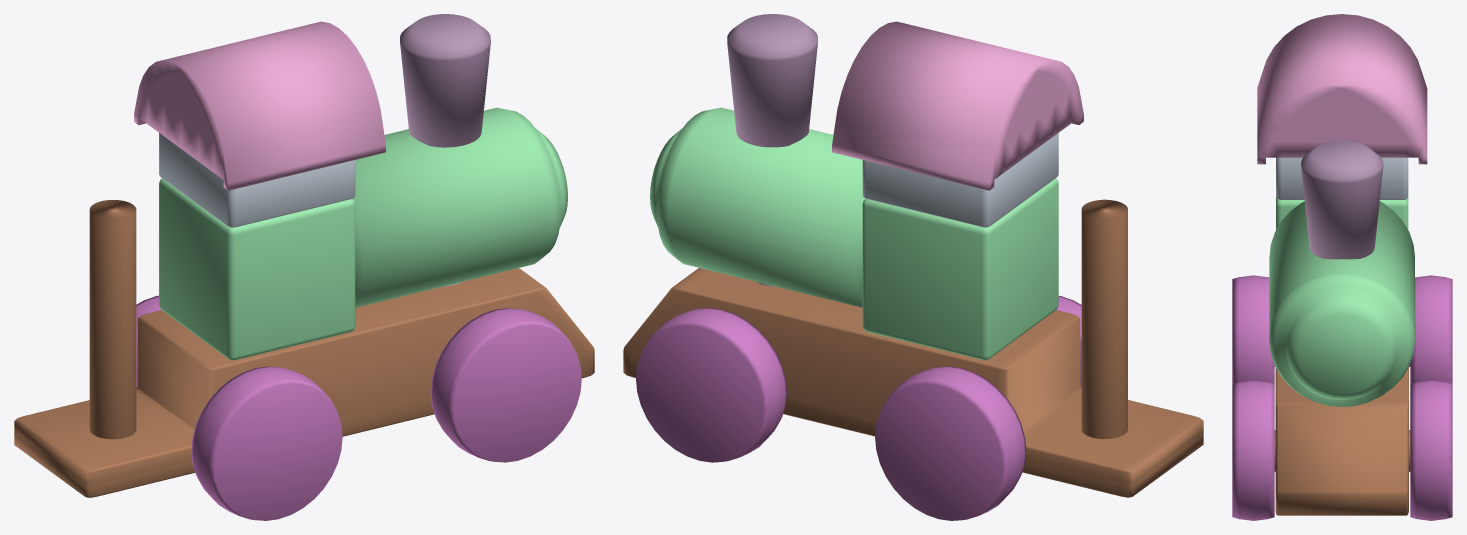
File: ToyTrain.fbx
3 renders of one model, left to right at view 1: azimuth 30°, elevation 25°; view 2: azimuth 150°, elevation 25°; view 3: azimuth 270°, elevation 25°, orthographic. The views are drawn at different scales.
Visible parts, largest first — view 1: Cube, Cylinder.004, Cylinder.003, Cube.001, Cylinder.011, Cylinder.010, Cylinder, Cylinder.005, Cube.002; view 2: Cube, Cylinder.004, Cylinder.003, Cube.001, Cylinder.009, Cylinder.008, Cylinder, Cylinder.005, Cube.002; view 3: Cylinder.004, Cylinder.003, Cube, Cylinder.005, Cylinder.008, Cylinder.010, Cylinder.009, Cylinder.011, Cube.002, Cube.001.
Part boxes in pixels (x1,y1,x2,y2): Cube: (14, 268, 594, 497); Cylinder.004: (352, 107, 567, 307); Cylinder.003: (134, 21, 385, 190); Cube.001: (159, 178, 355, 360); Cylinder.011: (191, 366, 342, 520); Cylinder.010: (430, 308, 581, 462); Cylinder: (89, 200, 136, 439); Cylinder.005: (400, 14, 490, 147); Cube.002: (159, 133, 355, 227); Cube: (623, 268, 1203, 497); Cylinder.004: (650, 107, 865, 307); Cylinder.003: (832, 21, 1083, 190); Cube.001: (862, 178, 1058, 360); Cylinder.009: (875, 366, 1026, 520); Cylinder.008: (636, 308, 786, 462); Cylinder: (1081, 199, 1127, 438); Cylinder.005: (727, 14, 817, 147); Cube.002: (862, 133, 1058, 227); Cylinder.004: (1269, 201, 1414, 406); Cylinder.003: (1257, 14, 1427, 164); Cube: (1275, 367, 1408, 515); Cylinder.005: (1301, 141, 1383, 259); Cylinder.008: (1410, 380, 1452, 520); Cylinder.010: (1232, 380, 1274, 520); Cylinder.009: (1410, 275, 1452, 384); Cylinder.011: (1232, 275, 1274, 384); Cube.002: (1276, 157, 1408, 199); Cube.001: (1276, 197, 1408, 229).
Bounding box in the file's own units: 15.88 × 12.55 × 6.6.
